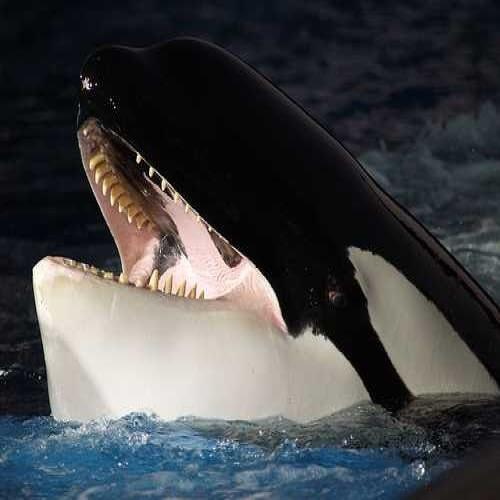killer_whale-endangered: (28, 19, 500, 440)
